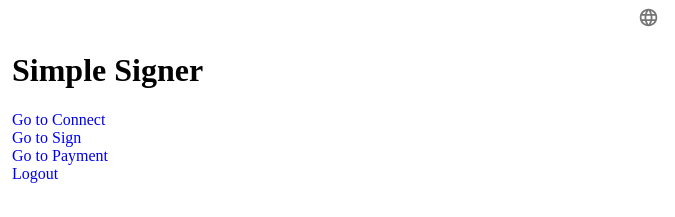
Test: checks that the /sign component works › should render an error if an xdr was not provided
Click the link "Go to Sign": x=47, y=138 [12,129,81,146]
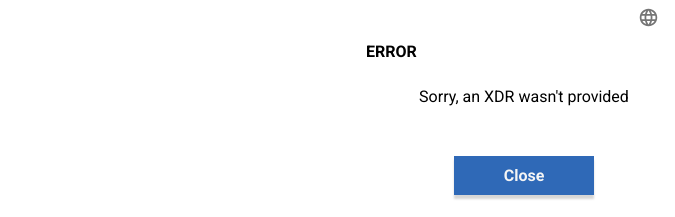
Expected: the text "Sorry, an XDR wasn't provided" is shown, [419,87,629,106]
